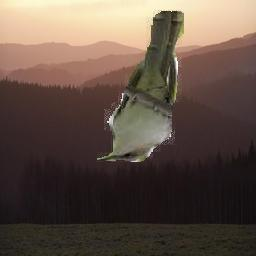Cuckoo: (98, 6, 185, 163)
